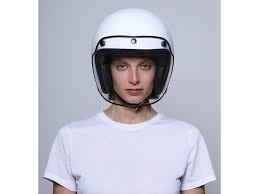helmet: (90, 7, 175, 111)
